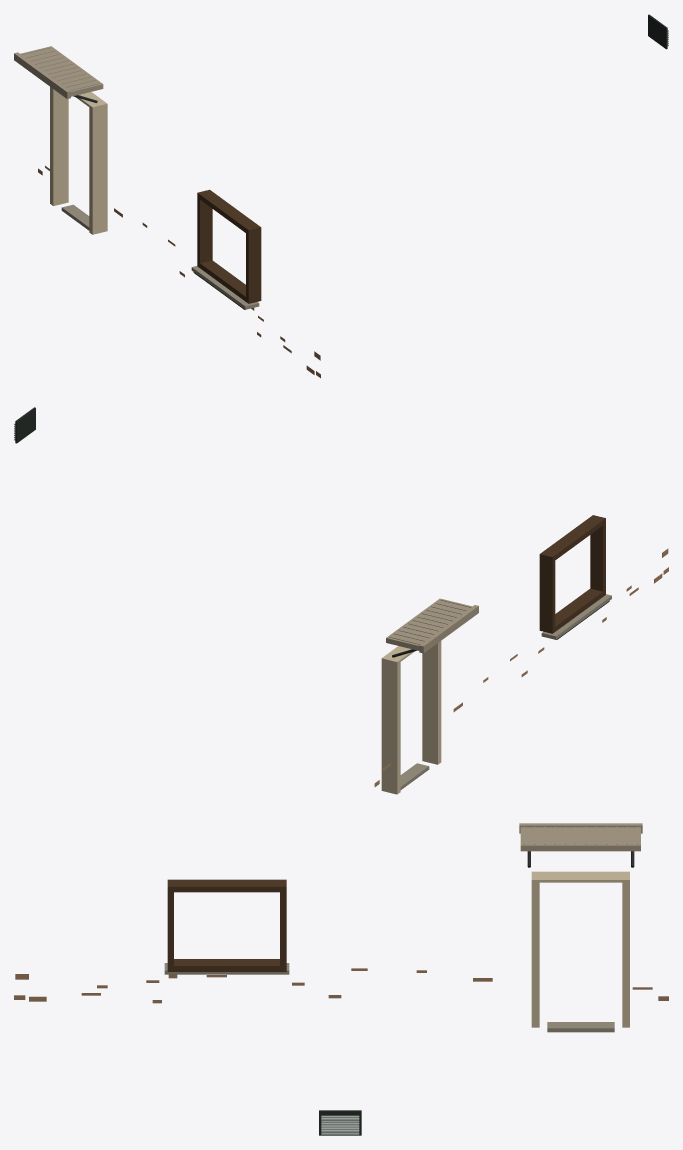
Rendered from SM_Homes_H03_Fixtures.fbx.
3 views of the same model, one above another, from view 1: azimuth 30°, elevation 25°; view 2: azimuth 150°, elevation 25°; view 3: azimuth 270°, elevation 25° (orthographic). The views are drawn at different scales.
Visible parts, largest first — view 1: SM_Homes_H03_Fixtures; view 2: SM_Homes_H03_Fixtures; view 3: SM_Homes_H03_Fixtures.
Boxes of the visible parts, left/top/right/bottom form: SM_Homes_H03_Fixtures: left=14, top=14, right=668, bottom=378; SM_Homes_H03_Fixtures: left=14, top=407, right=668, bottom=794; SM_Homes_H03_Fixtures: left=14, top=823, right=668, bottom=1135.
Size of the model in its own units: 9.75 by 9.25 by 2.88.
